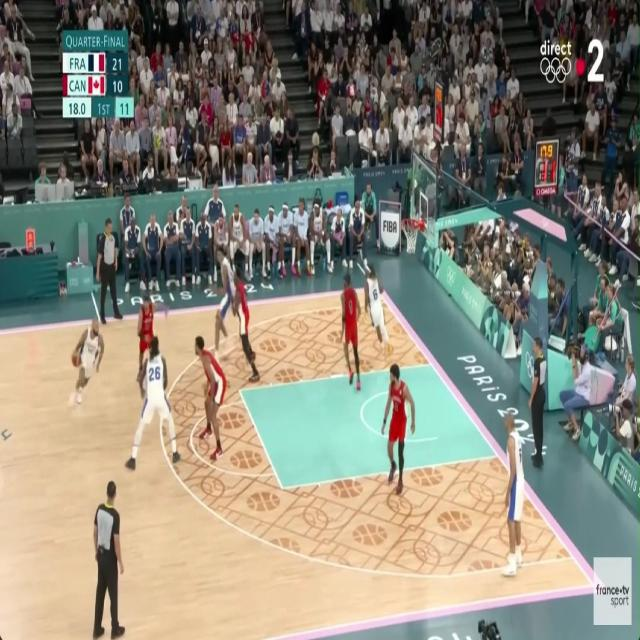ball_handler: (67, 317, 104, 410)
